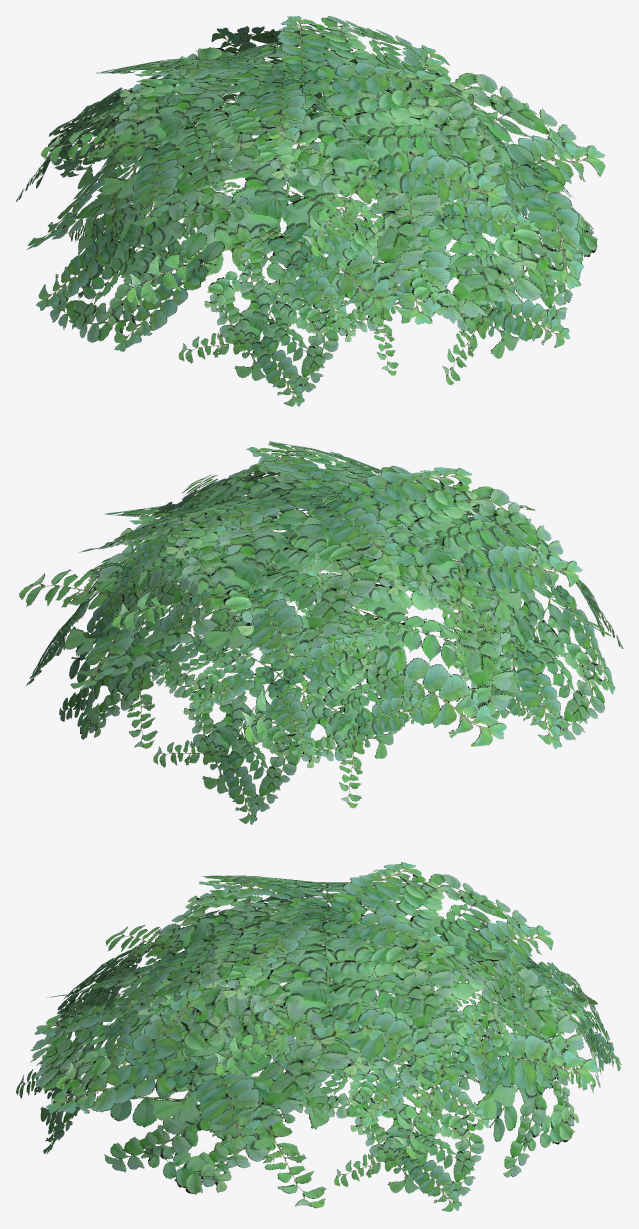
The model's file is besh1.glb.
The picture shows the model from 3 angles, top to bottom: view 1: azimuth 30°, elevation 25°; view 2: azimuth 150°, elevation 25°; view 3: azimuth 270°, elevation 25°; orthographic projection. The views are drawn at different scales.
Parts seen in each view (by area): view 1: leaves.009; view 2: leaves.009; view 3: leaves.009.
Part boxes in pixels (box(x1,y1,x2,y2)): leaves.009: box(16, 16, 605, 406); leaves.009: box(19, 441, 623, 824); leaves.009: box(16, 862, 621, 1211).
Bounding box in the file's own units: 2.41 × 0.9455 × 2.51.
Materials: 1 (1 with a texture image).
